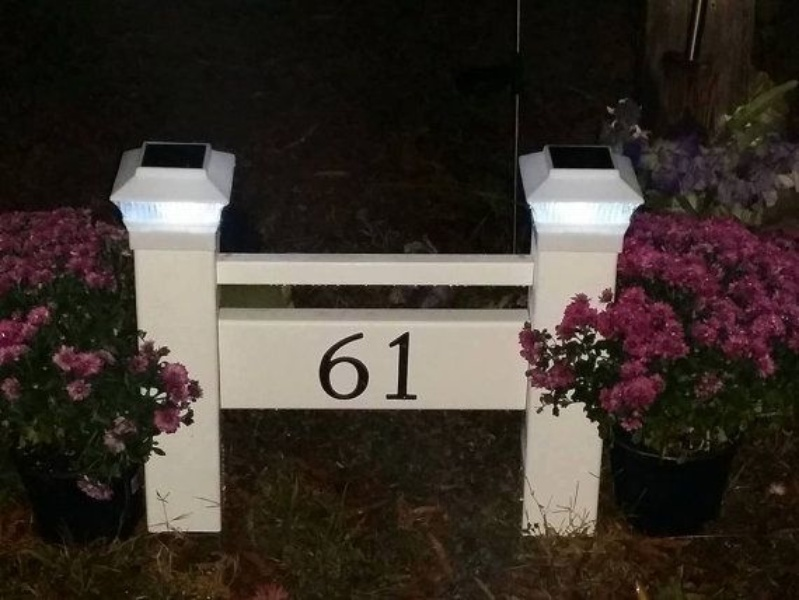text: (321, 331, 336, 400), (337, 331, 352, 400), (353, 331, 368, 400), (369, 331, 384, 400), (385, 331, 400, 400), (401, 331, 416, 400), (417, 331, 418, 400)
